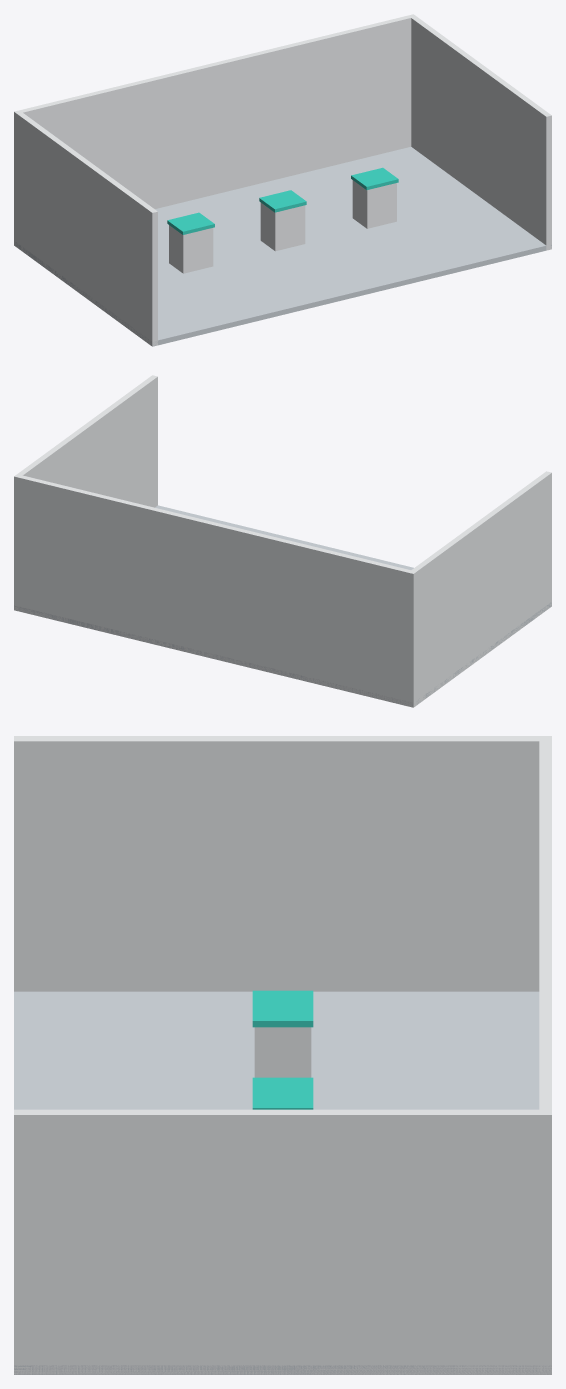
3 renders of one model, top to bottom at view 1: azimuth 30°, elevation 25°; view 2: azimuth 150°, elevation 25°; view 3: azimuth 270°, elevation 25°, orthographic. The views are drawn at different scales.
Parts seen in each view (by area): view 1: Exhibition Booth Concept; view 2: Exhibition Booth Concept; view 3: Exhibition Booth Concept.
Boxes of the visible parts, bbox=[...] form: Exhibition Booth Concept: bbox=[14, 14, 551, 346]; Exhibition Booth Concept: bbox=[14, 375, 551, 707]; Exhibition Booth Concept: bbox=[14, 736, 551, 1374].
Size of the model in its own units: 10 by 3.2 by 6.
